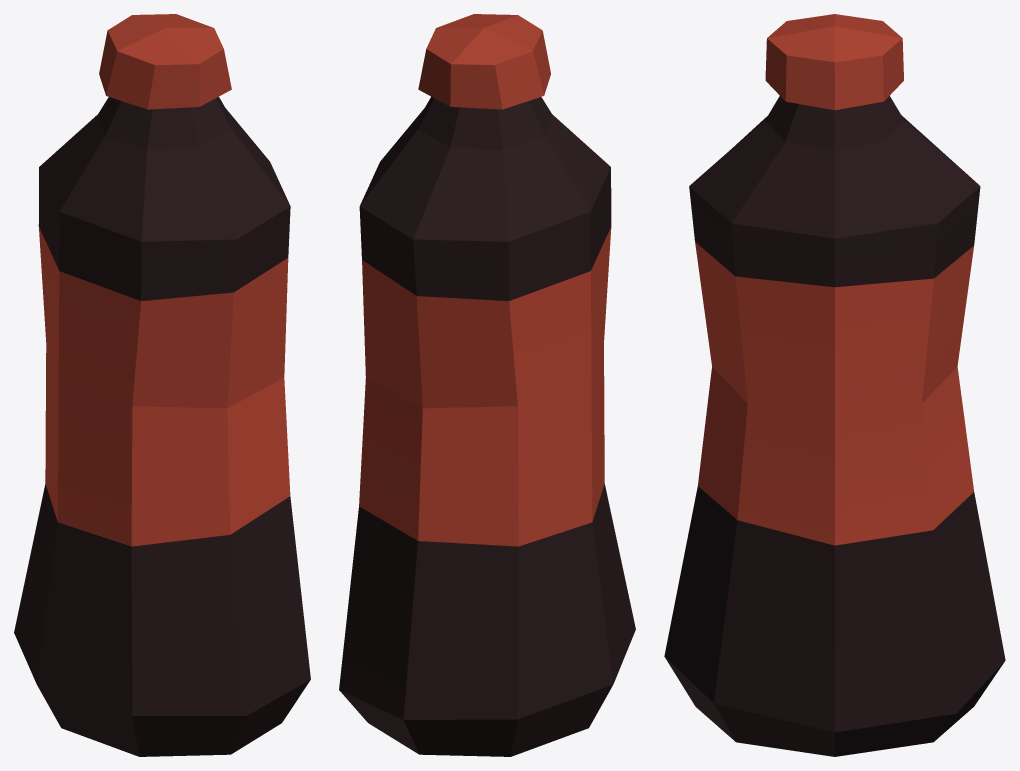
Rendered from SM_Prop_Soda_Bottle_01.obj.
3 views of the same model, side by side, from view 1: azimuth 30°, elevation 25°; view 2: azimuth 150°, elevation 25°; view 3: azimuth 270°, elevation 25° (orthographic).
Parts seen in each view (by area): view 1: SM_Prop_Soda_Bottle_01_0; view 2: SM_Prop_Soda_Bottle_01_0; view 3: SM_Prop_Soda_Bottle_01_0.
Part boxes in pixels (<box>): SM_Prop_Soda_Bottle_01_0: <box>14,14,310,756</box>; SM_Prop_Soda_Bottle_01_0: <box>339,14,635,756</box>; SM_Prop_Soda_Bottle_01_0: <box>664,14,1005,756</box>.
Size of the model in its own units: 0.1118 by 0.2931 by 0.1305.
Materials: 1 (1 with a texture image).
